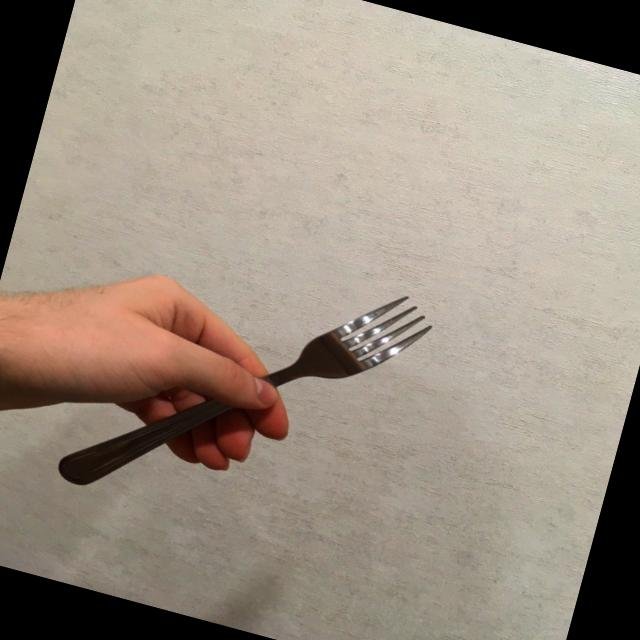fork: (50, 218, 439, 564)
